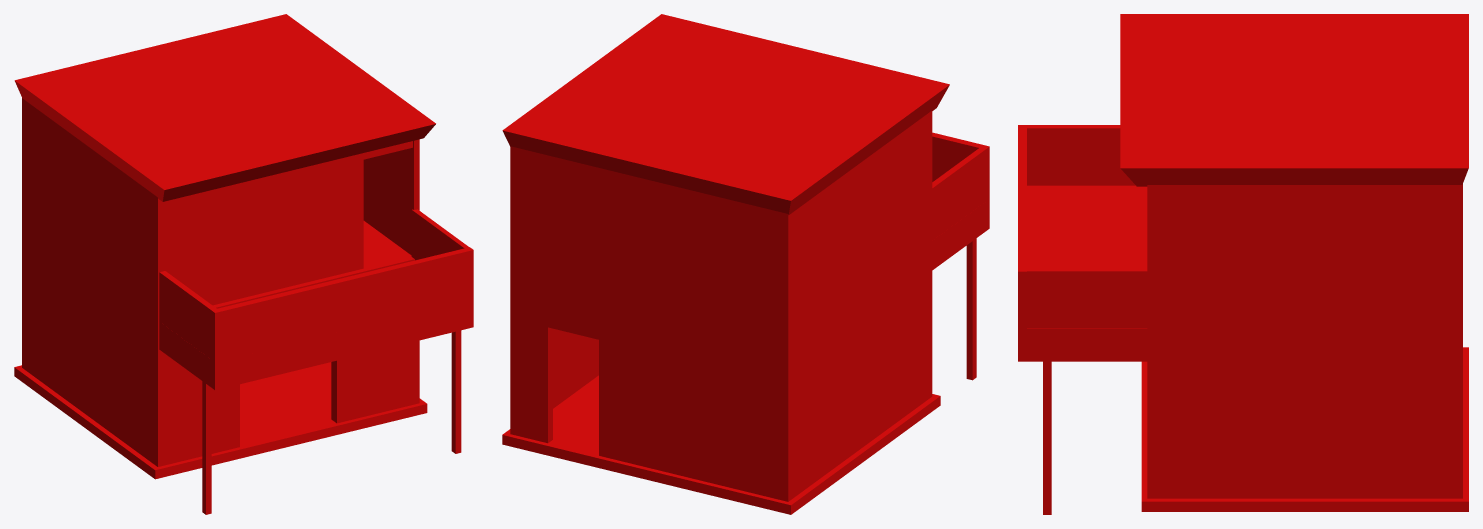
The model's file is SM_Bld_Cafe_01_Collision.fbx.
The picture shows the model from 3 angles, left to right: view 1: azimuth 30°, elevation 25°; view 2: azimuth 150°, elevation 25°; view 3: azimuth 270°, elevation 25°; orthographic projection. The views are drawn at different scales.
Parts seen in each view (by area): view 1: SM_Bld_Cafe_01_Collision; view 2: SM_Bld_Cafe_01_Collision; view 3: SM_Bld_Cafe_01_Collision.
Part boxes in pixels (x1,y1,x2,y2): SM_Bld_Cafe_01_Collision: (14, 14, 473, 514); SM_Bld_Cafe_01_Collision: (502, 14, 989, 514); SM_Bld_Cafe_01_Collision: (1018, 14, 1468, 514).
Bounding box in the file's own units: 580 × 616 × 716.
